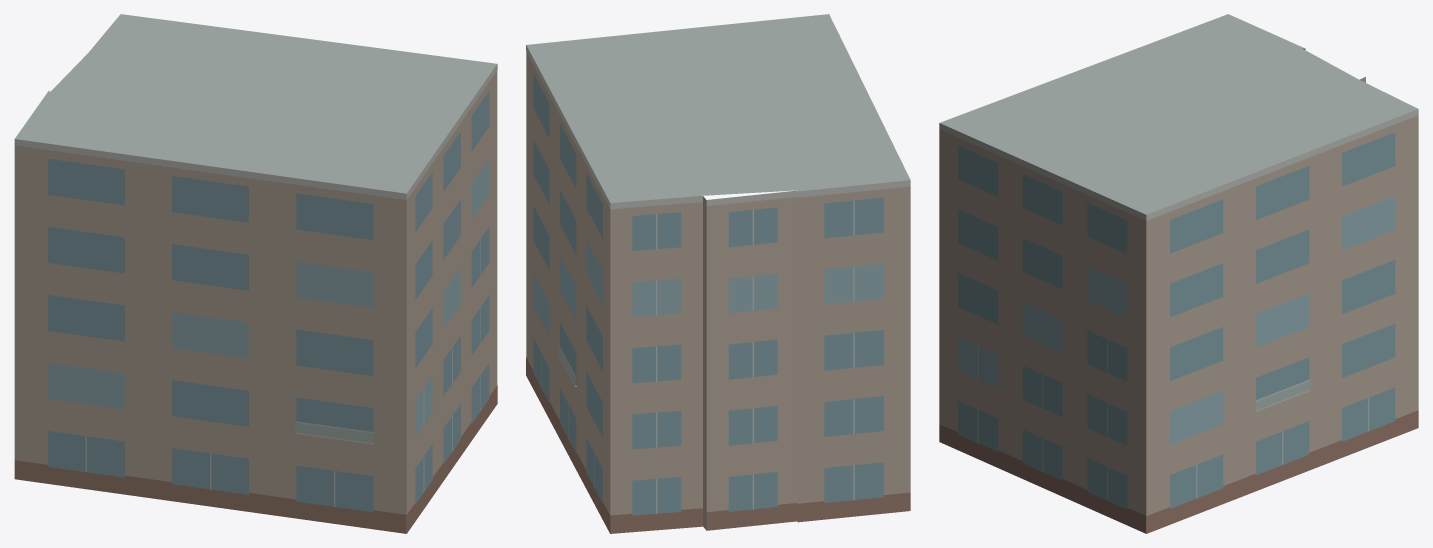
The model's file is survey-upis-32936796.glb.
The picture shows the model from 3 angles, left to right: view 1: azimuth 30°, elevation 25°; view 2: azimuth 150°, elevation 25°; view 3: azimuth 270°, elevation 25°; orthographic projection. The views are drawn at different scales.
Visible parts, largest first — view 1: survey-upis-32936796.tmp; view 2: survey-upis-32936796.tmp; view 3: survey-upis-32936796.tmp.
Part boxes in pixels (bbox=[...]): survey-upis-32936796.tmp: bbox=[14, 14, 497, 533]; survey-upis-32936796.tmp: bbox=[526, 14, 910, 533]; survey-upis-32936796.tmp: bbox=[939, 14, 1418, 533].
Bounding box in the file's own units: 17.3 × 12.8 × 17.44.
